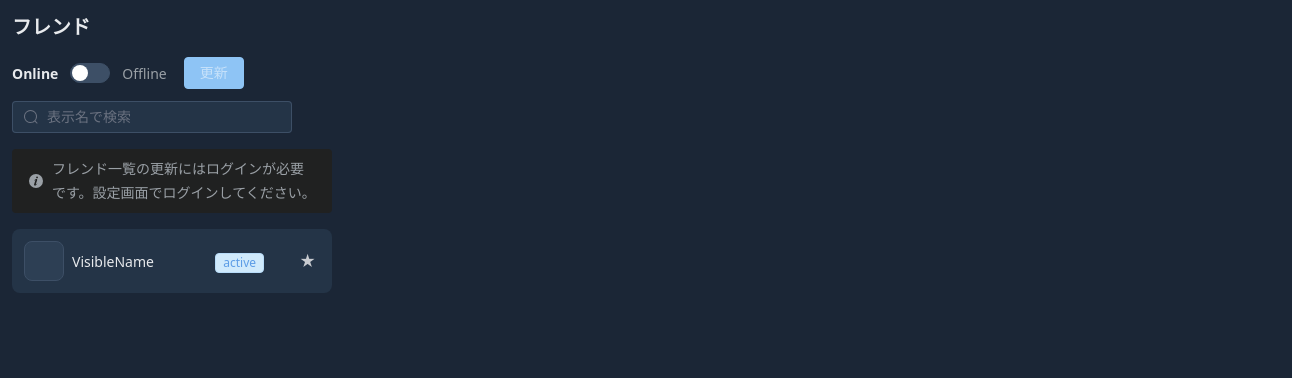
Test: FriendsView › detail omits user id row and offers copy on display name
Click the element with class "friend-card" at [172, 261], box [12, 229, 332, 293]
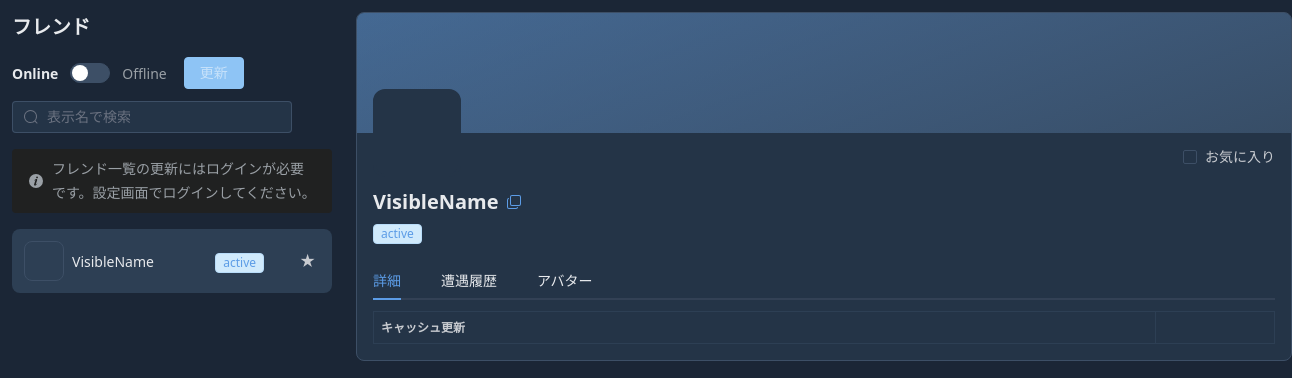
Expected: the button with test id "friend-copy-display-name" is shown, [502, 190, 524, 212]
